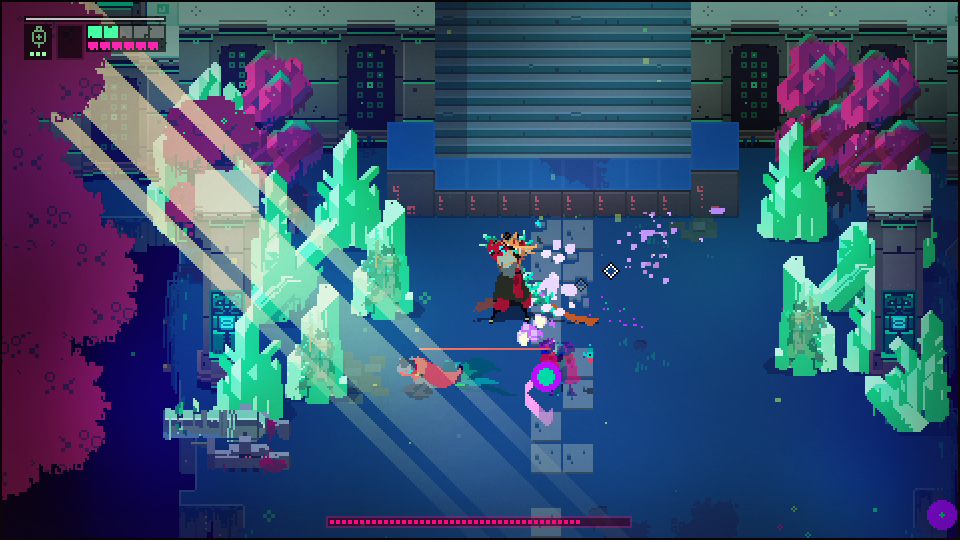hanged_man: (474, 226, 563, 324)
hanged_shot: (528, 360, 563, 395), (927, 501, 955, 531)
player: (395, 357, 464, 390)
